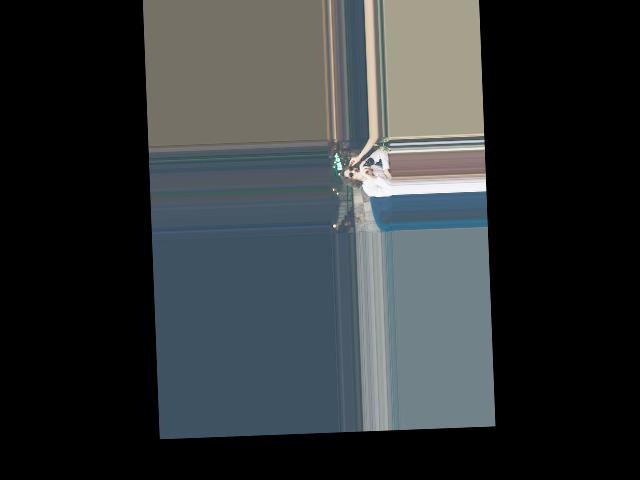beer: (355, 156, 375, 171)
